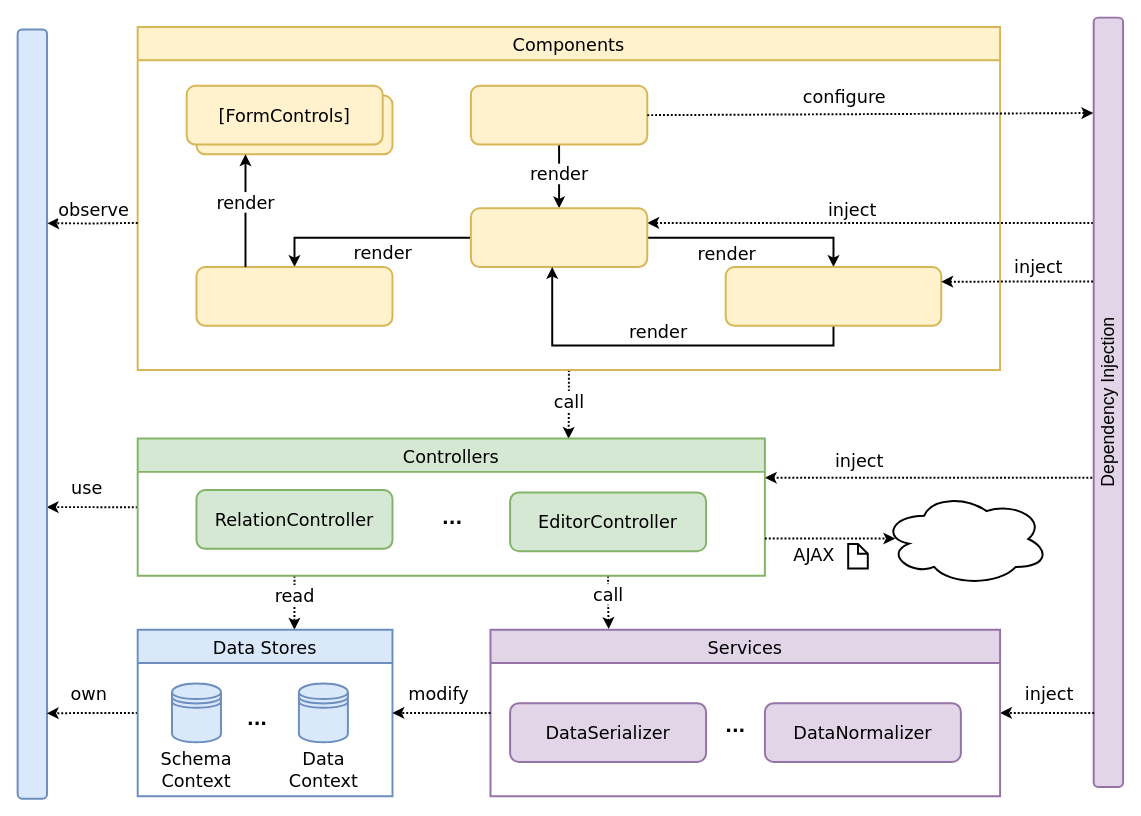
The diagram is 1141 pixels wide and 816 high, and some of its shapes have lost their labels. Each missing label, with the centre of its shape:
<ArticleEditor />: point (558, 237)
<PlainFieldEditor />: point (294, 296)
<ProductEditor />: point (558, 114)
<RelationFieldEditor />: point (833, 296)
Backend: point (965, 538)
Models: point (32, 413)
